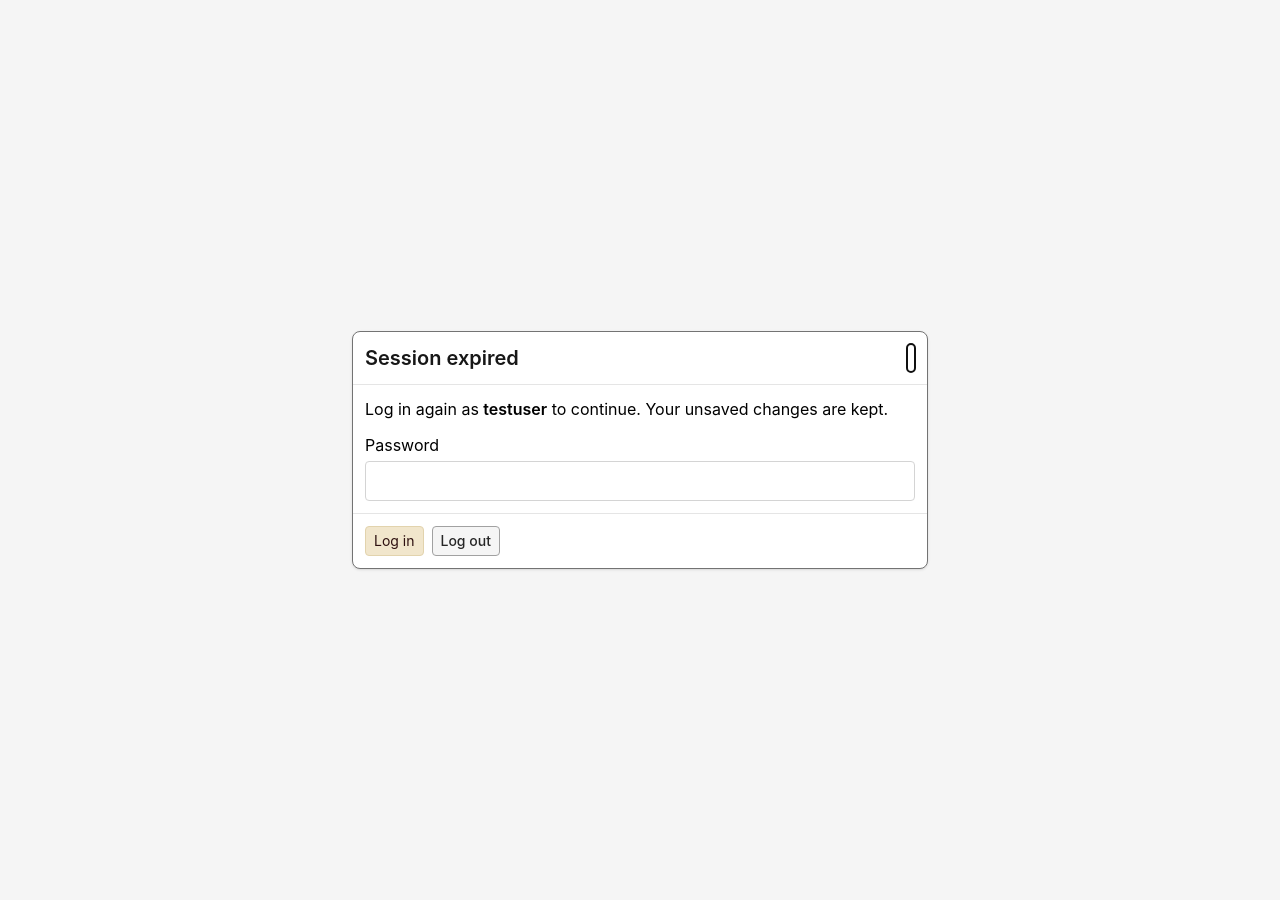
Test case: SessionLoginDialog › asks for the password before logging in
What coordinates should you click on to do the following:
click the button "Log in"
I would click on:
 (394, 541)
Its box is [365,526,424,556].
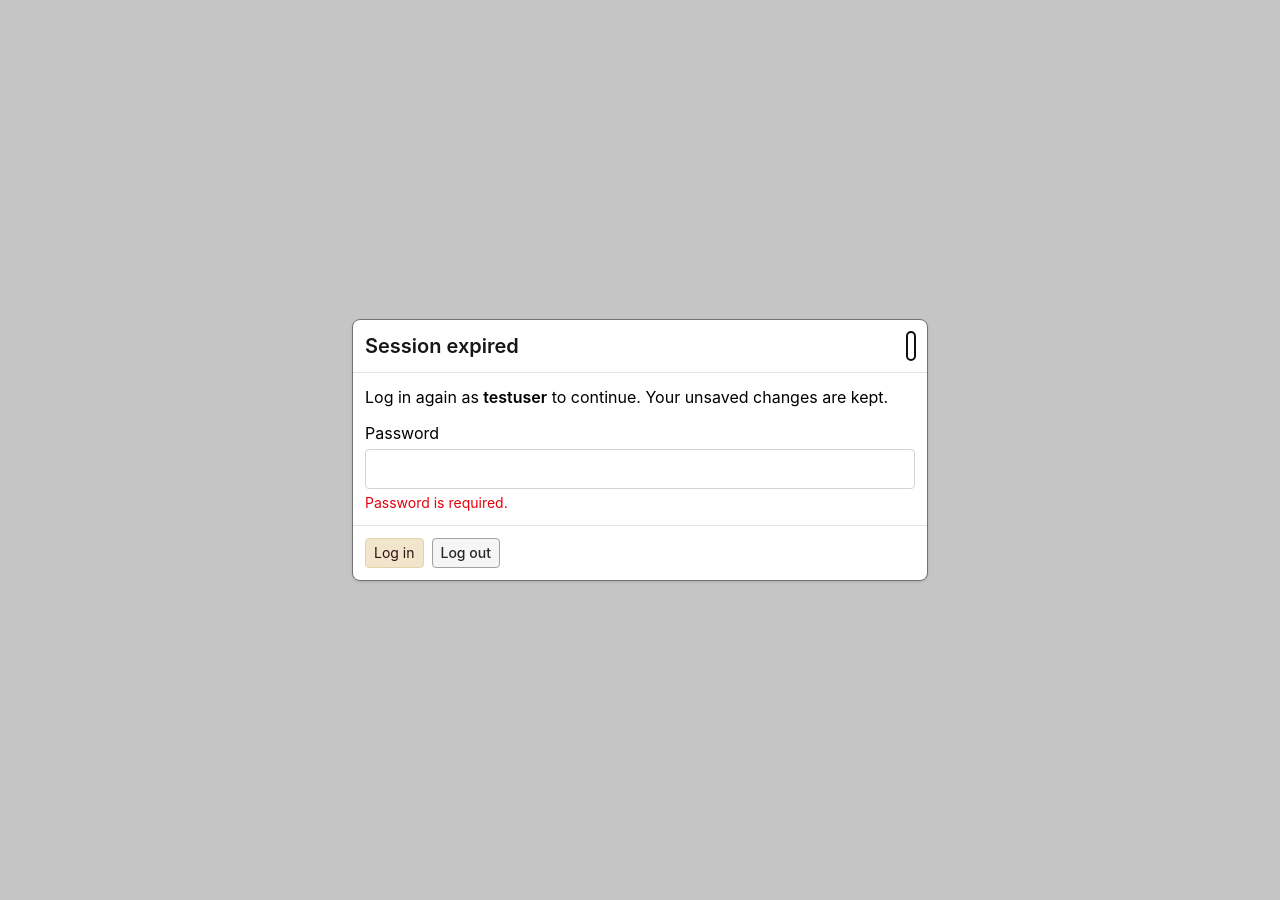
Check: the text "Password is required." is shown, box [365,494,508,511]
